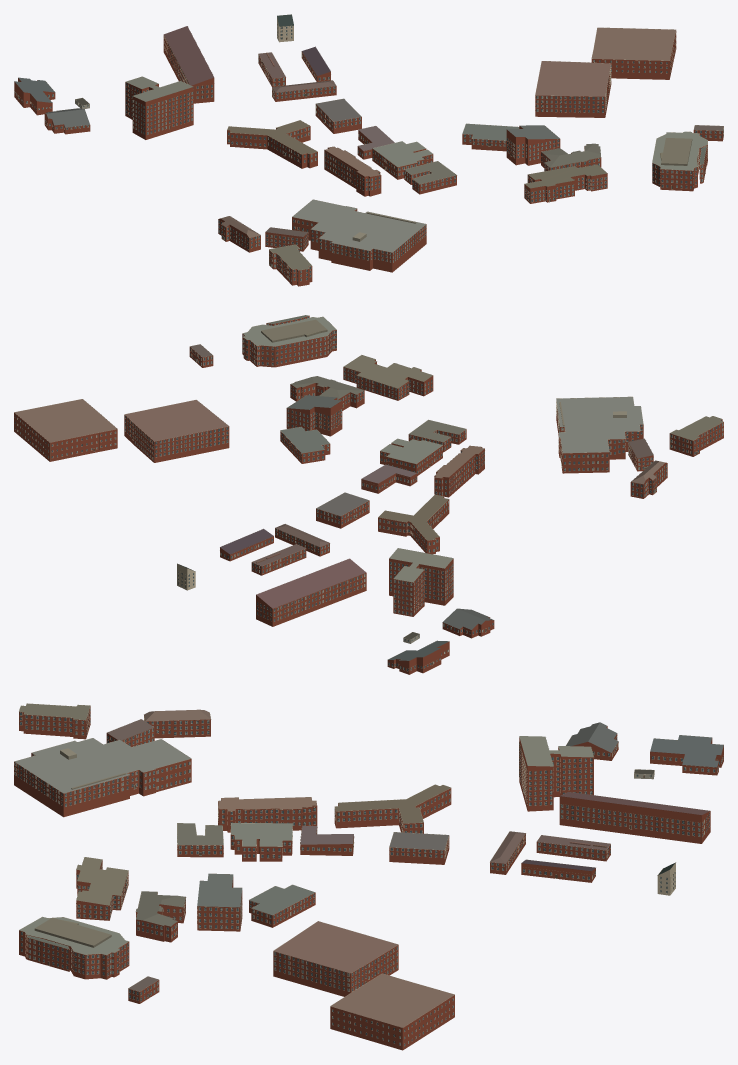
3 renders of one model, top to bottom at view 1: azimuth 30°, elevation 25°; view 2: azimuth 150°, elevation 25°; view 3: azimuth 270°, elevation 25°, orthographic. The views are drawn at different scales.
Visible parts, largest first — view 1: -3_-1_187869327_0; view 2: -3_-1_187869327_0; view 3: -3_-1_187869327_0.
Boxes of the visible parts, x1=… form: -3_-1_187869327_0: x1=14, y1=14, x2=723, y2=286; -3_-1_187869327_0: x1=14, y1=315, x2=723, y2=674; -3_-1_187869327_0: x1=14, y1=703, x2=723, y2=1050.
Bounding box in the file's own units: 536 × 42.7 × 503.
